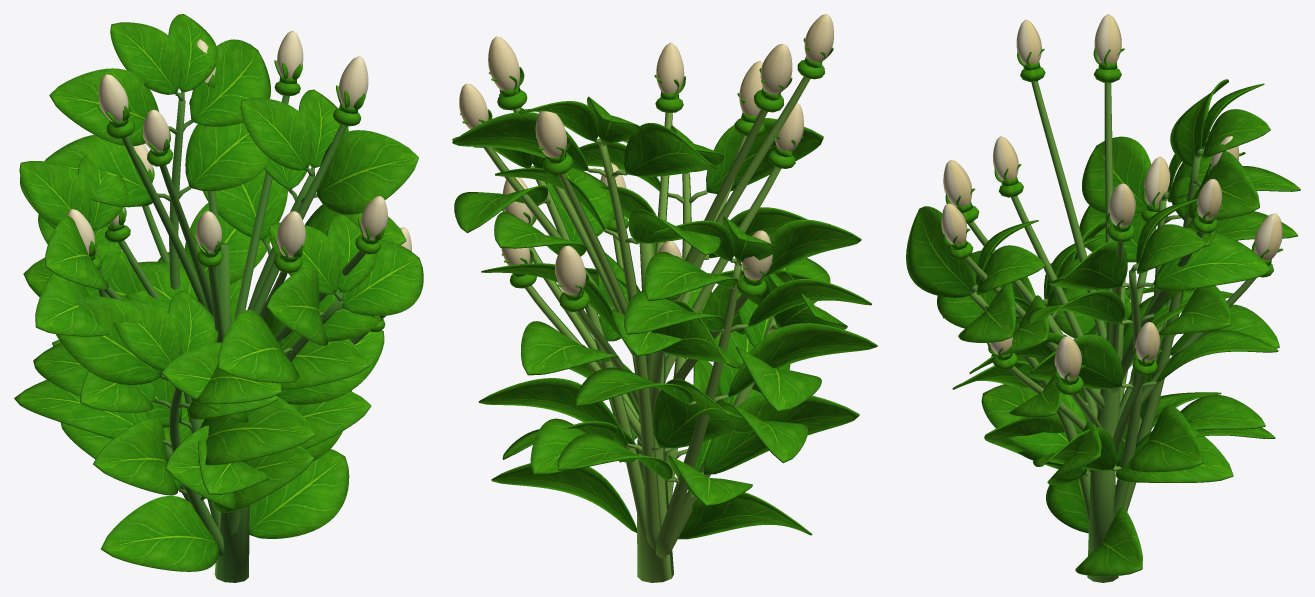
File: NP_Jasmine_BudForming.fbx
3 renders of one model, left to right at view 1: azimuth 30°, elevation 25°; view 2: azimuth 150°, elevation 25°; view 3: azimuth 270°, elevation 25°, orthographic. The views are drawn at different scales.
Visible parts, largest first — view 1: NP_Jasmine_BudForming; view 2: NP_Jasmine_BudForming; view 3: NP_Jasmine_BudForming.
Part boxes in pixels (left/top/right/bottom): NP_Jasmine_BudForming: left=14, top=14, right=423, bottom=582; NP_Jasmine_BudForming: left=452, top=14, right=877, bottom=582; NP_Jasmine_BudForming: left=906, top=14, right=1300, bottom=582.
Bounding box in the file's own units: 46.53 × 64.46 × 45.68.
